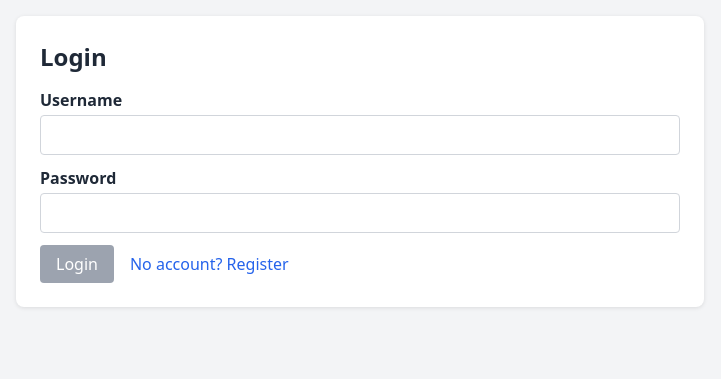
LoginComponent › shows error message when login fails with 401
Type "bob" into the field with id "username" at (360, 135), box [40,115,680,155]
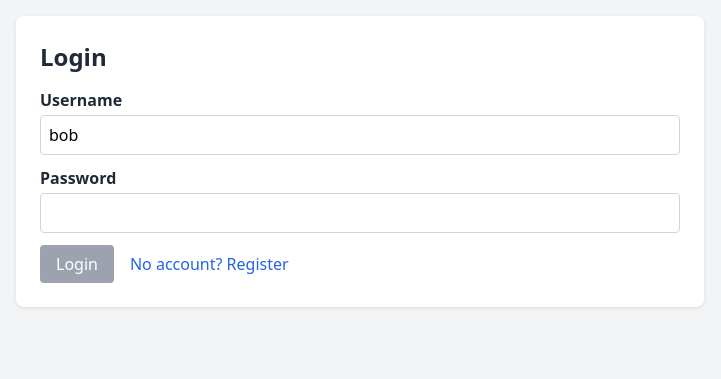
Type "wrong" into the password field labelled "Password" at (360, 213), box [40,193,680,233]
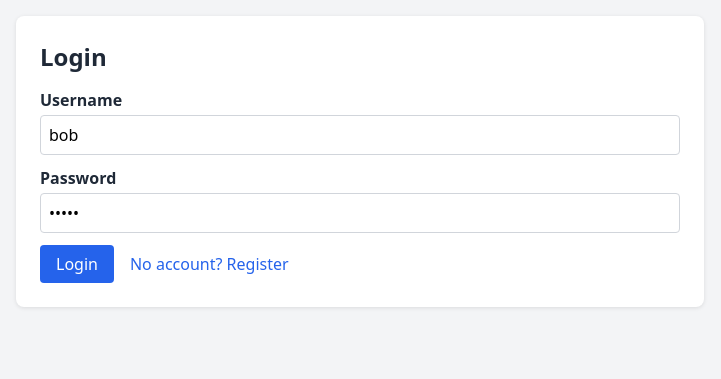
Submit the form, box [40,89,680,283]
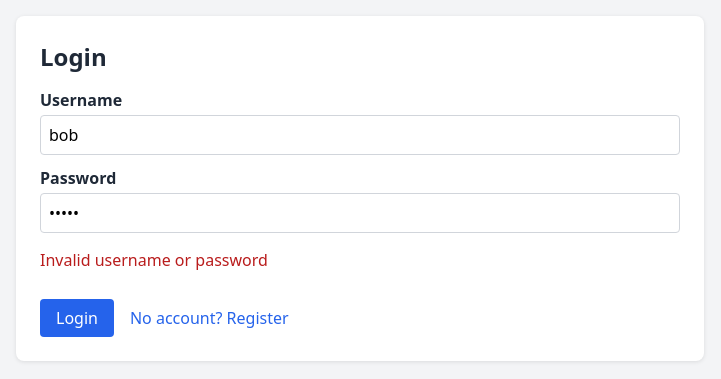
Result: the message with class "error" reads "Invalid username or password" at [40,249,268,271]
